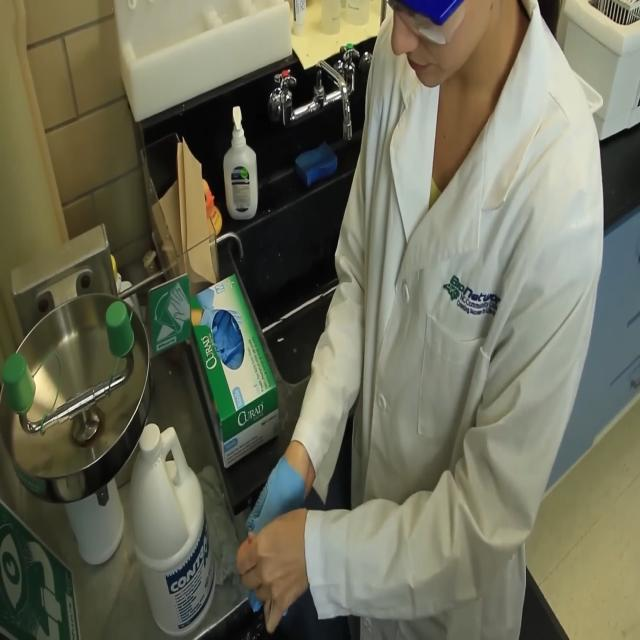googles: (384, 0, 479, 51)
labcoat: (287, 0, 610, 640)
